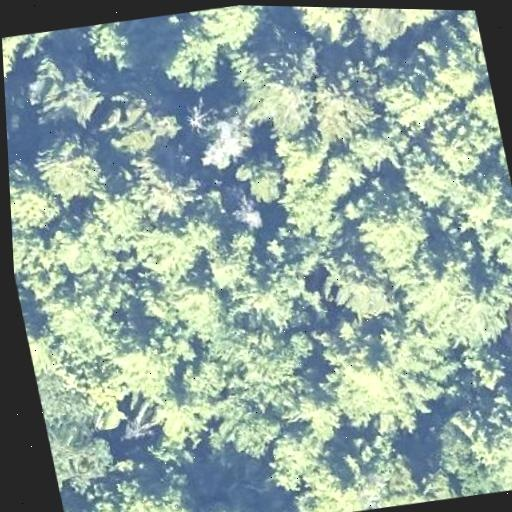tree-top: (315, 303, 464, 435), (196, 309, 320, 419), (215, 38, 324, 146), (224, 232, 331, 341), (115, 205, 222, 299), (93, 322, 195, 415), (36, 272, 138, 363), (423, 245, 512, 348), (306, 238, 402, 329), (95, 76, 193, 165), (345, 187, 439, 278), (38, 195, 137, 280), (431, 396, 512, 499), (298, 56, 389, 145), (18, 52, 112, 133), (141, 275, 233, 355), (178, 98, 266, 181), (341, 420, 419, 512), (369, 55, 456, 136), (90, 458, 216, 512), (42, 402, 123, 486), (270, 166, 353, 245), (24, 132, 112, 206), (390, 132, 469, 214), (258, 419, 342, 494), (417, 17, 492, 101), (419, 98, 496, 178), (458, 182, 512, 289), (189, 226, 270, 297), (128, 149, 200, 224), (155, 25, 225, 94), (74, 17, 152, 78), (191, 4, 273, 56), (8, 156, 61, 236), (35, 368, 103, 430), (221, 403, 285, 462), (2, 29, 64, 89), (287, 469, 370, 512), (288, 6, 361, 51), (349, 8, 416, 57), (456, 343, 512, 399), (23, 313, 71, 376), (12, 224, 45, 294), (393, 9, 452, 35), (4, 69, 24, 145), (62, 497, 110, 512), (511, 294, 512, 379)
